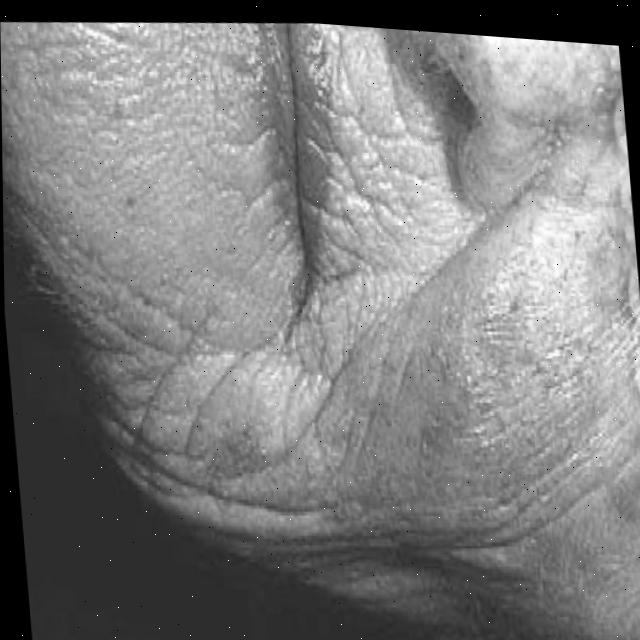Rosacea: (425, 299, 640, 553), (231, 405, 258, 467)
